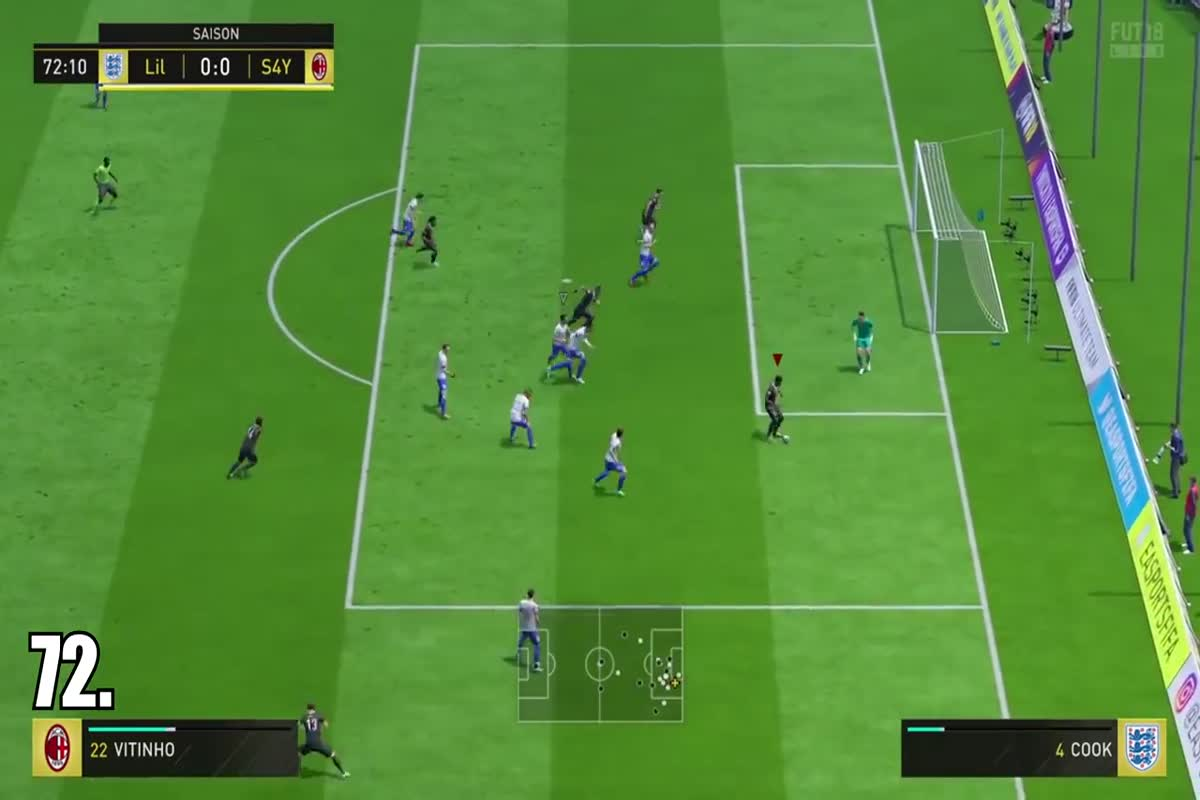ball: (775, 427, 801, 450)
